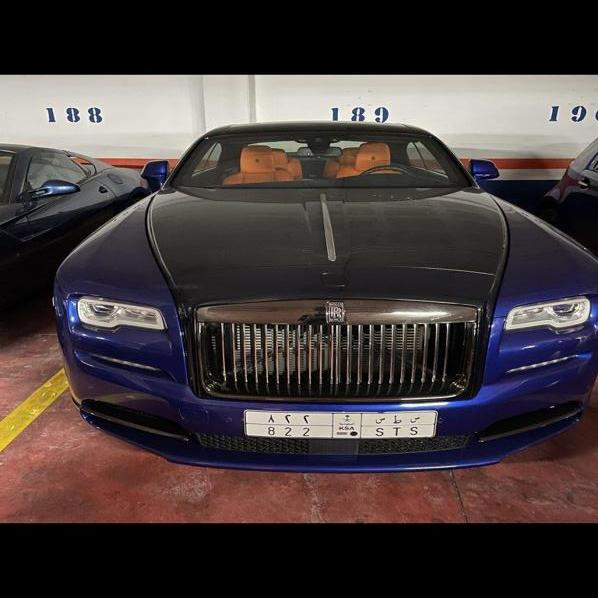numberplate: (244, 409, 437, 439)
